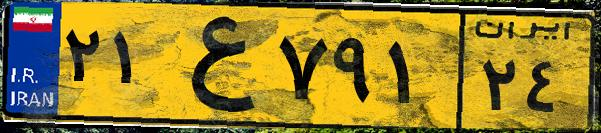1: (385, 28, 445, 110), (110, 28, 158, 98)
2: (57, 26, 110, 100), (475, 38, 525, 113)
4: (525, 38, 570, 115)
7: (270, 28, 330, 110)
9: (330, 28, 385, 110)
ع: (158, 12, 270, 120)
